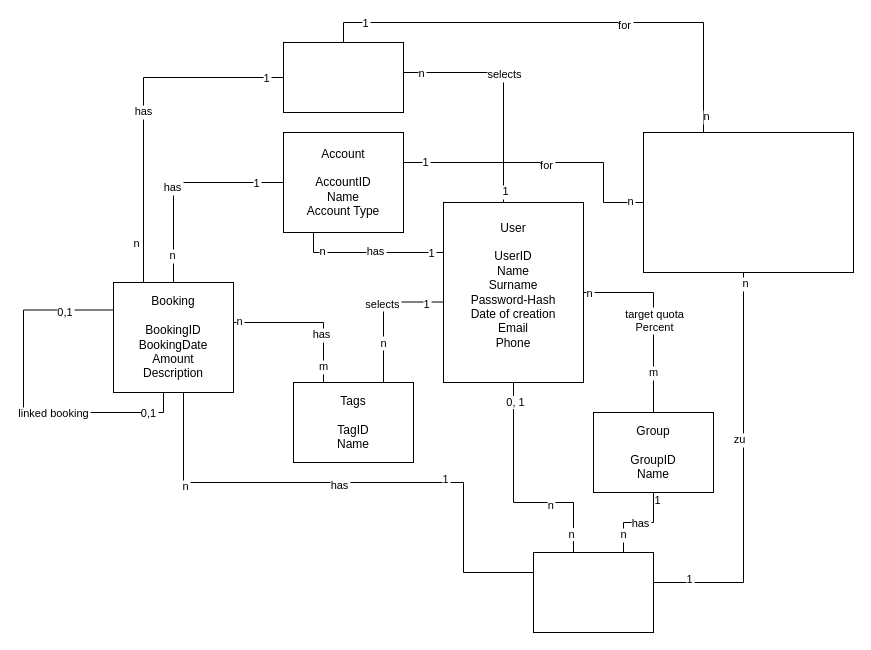
Image size: 871x650. Some labels were removed from this diagram. The centre of each missing label's shape, as x and y in pixels:
"Kategorie KategorieID Name" belongs at (593,592).
"Payee PayeeID Name" belongs at (343,77).
"Recurring Payment Recurring PaymentID Amount Intervall Starting Date Ending Date" belongs at (748,202).
